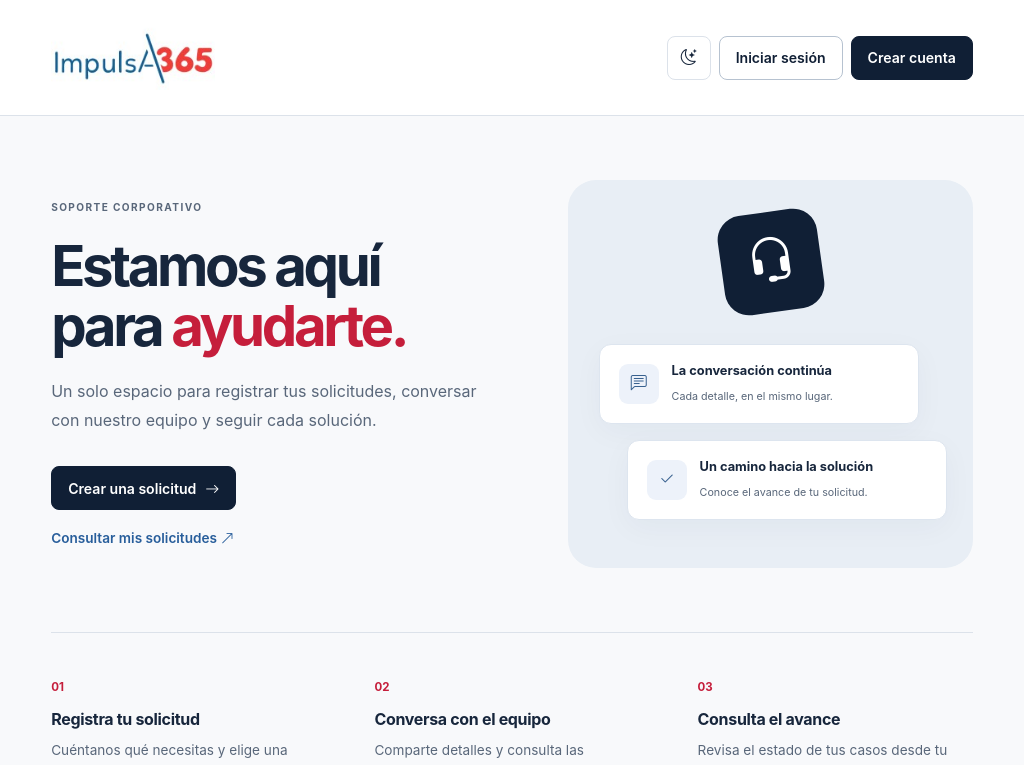
it: Migración React › cambia el tema en el portal y conserva la preferencia al navegar al login
Click the button named "Activar tema oscuro". click: (689, 58)
box: [667,36,711,80]
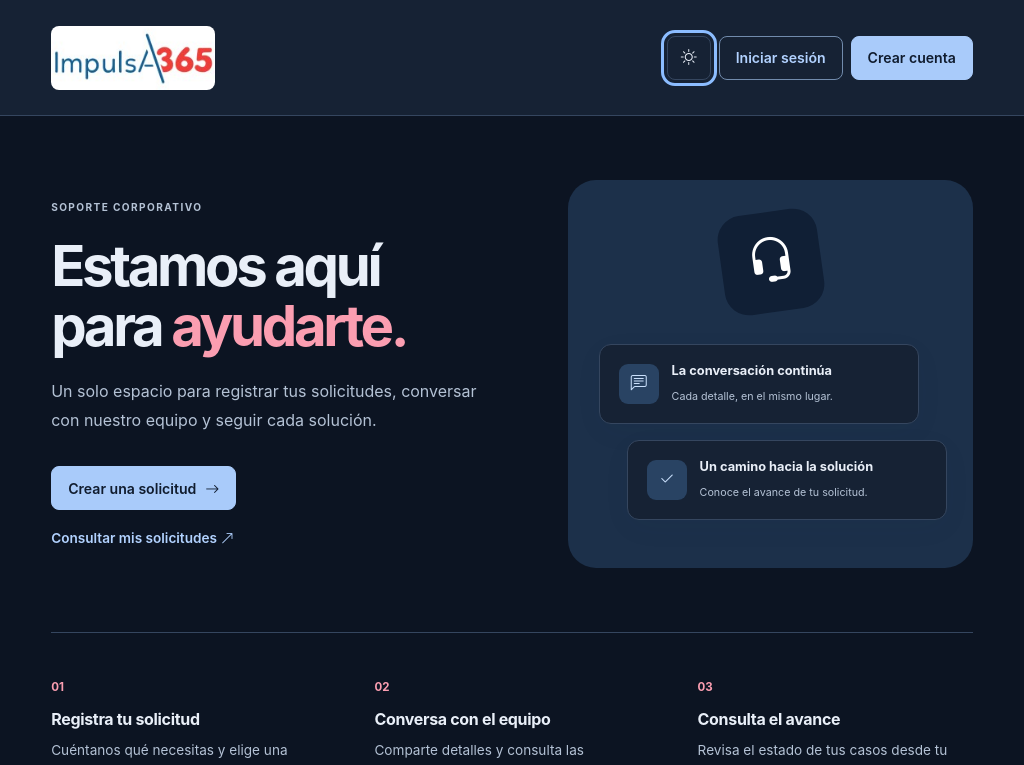
Click the link "Iniciar sesión". click: (781, 58)
box: [719,36,843,80]
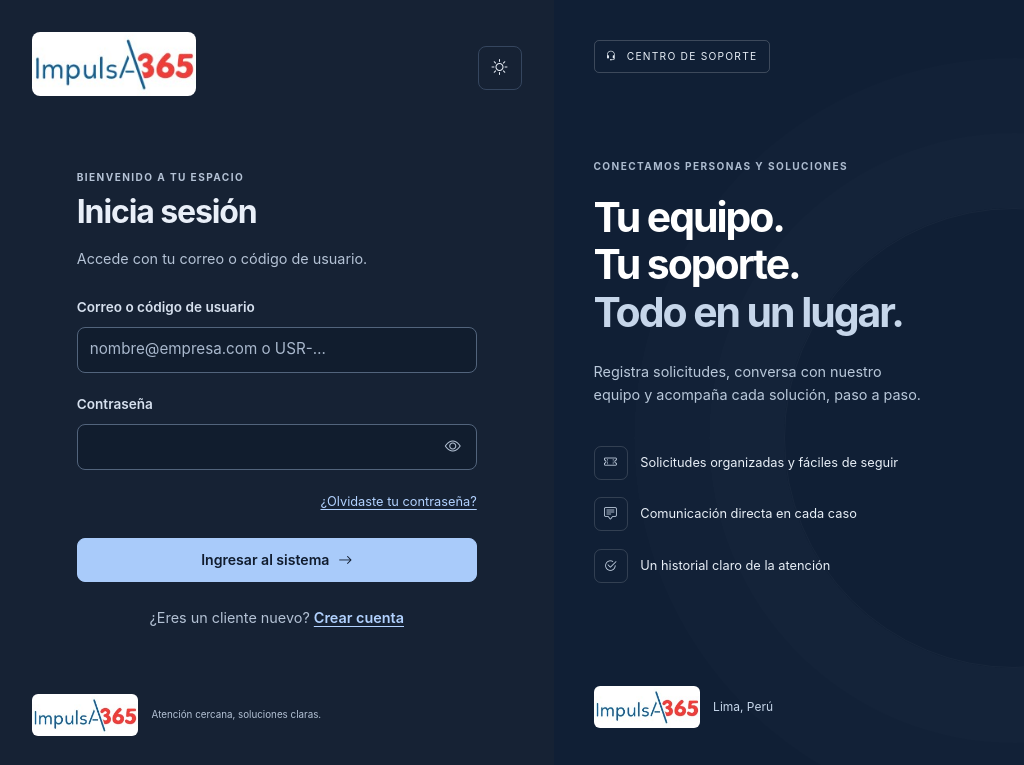
Check: the heading "Inicia sesión" is shown, box [77,192,257,231]
